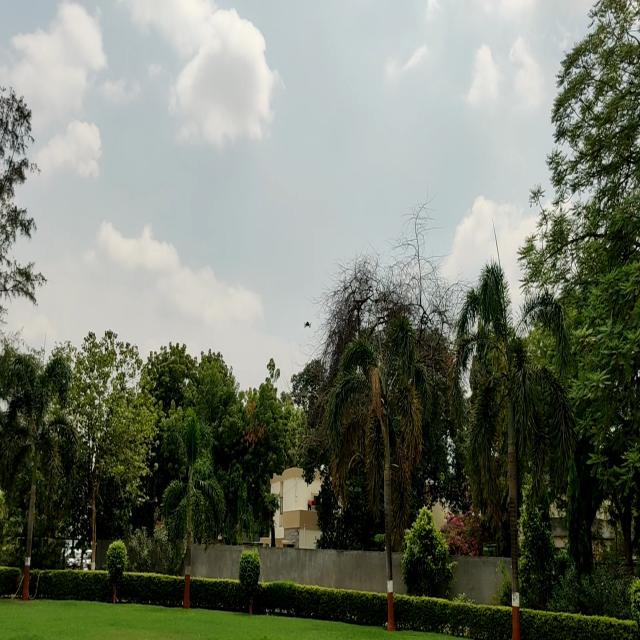drone: (299, 315, 316, 333)
